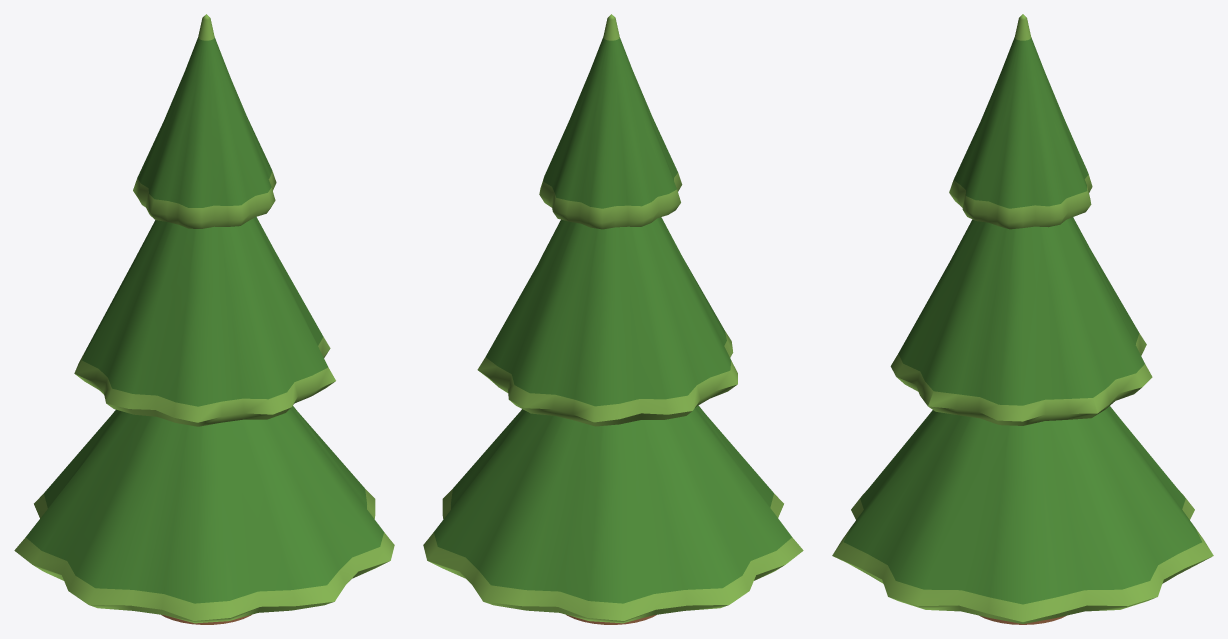
File: PineTree_03.glb
3 views of the same model, side by side, from view 1: azimuth 30°, elevation 25°; view 2: azimuth 150°, elevation 25°; view 3: azimuth 270°, elevation 25° (orthographic).
Parts seen in each view (by area): view 1: PineTree_03; view 2: PineTree_03; view 3: PineTree_03.
Boxes of the visible parts, x1,y1,x2,y2 form: PineTree_03: [14, 14, 394, 624]; PineTree_03: [423, 14, 803, 624]; PineTree_03: [832, 14, 1213, 624].
Size of the model in its own units: 4.81 by 8.31 by 4.89.
